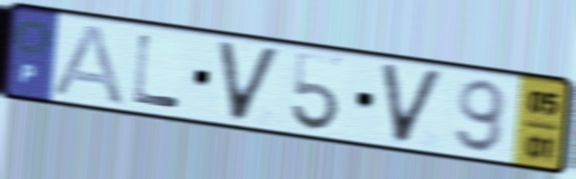5: (287, 48, 354, 135)
9: (452, 76, 510, 156)
A: (48, 21, 128, 108)
L: (129, 31, 183, 111)
V: (213, 37, 286, 126), (376, 60, 449, 148)
